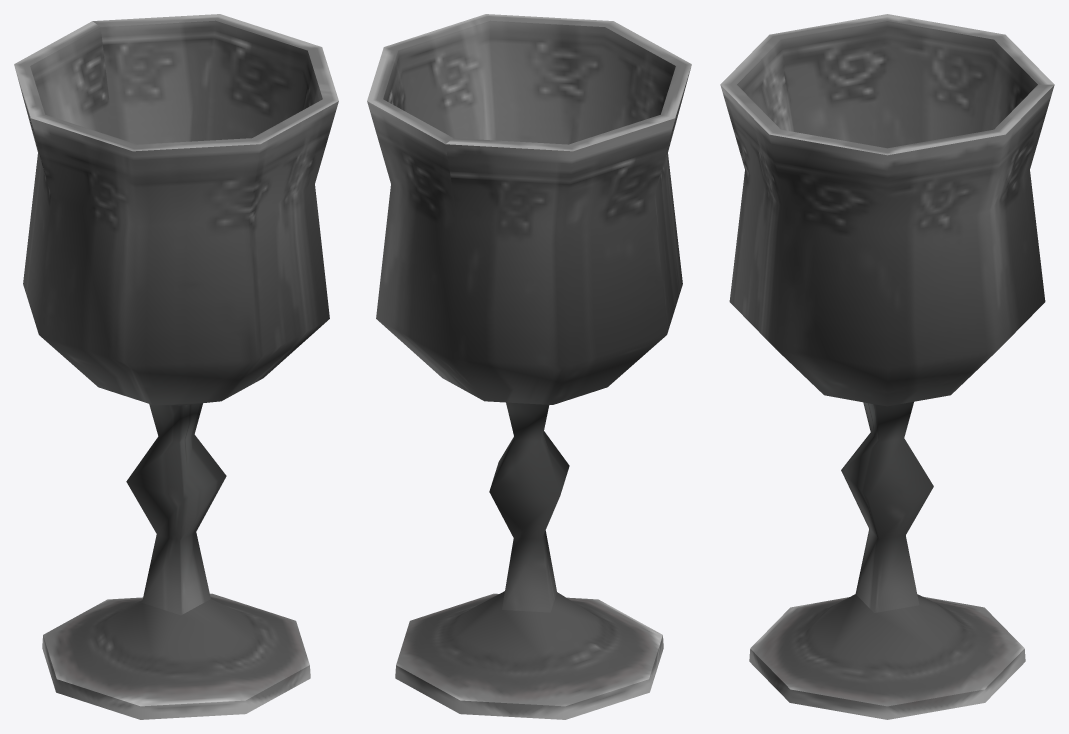
The model's file is SM_PROP_glass_city_01.fbx.
3 views of the same model, side by side, from view 1: azimuth 30°, elevation 25°; view 2: azimuth 150°, elevation 25°; view 3: azimuth 270°, elevation 25° (orthographic).
Visible parts, largest first — view 1: SM_PROP_glass_city_01; view 2: SM_PROP_glass_city_01; view 3: SM_PROP_glass_city_01.
Part boxes in pixels (x1,y1,x2,y2): SM_PROP_glass_city_01: (14,14,338,719); SM_PROP_glass_city_01: (367,14,691,719); SM_PROP_glass_city_01: (720,14,1054,719).
Bounding box in the file's own units: 13.69 × 26.06 × 13.69.
